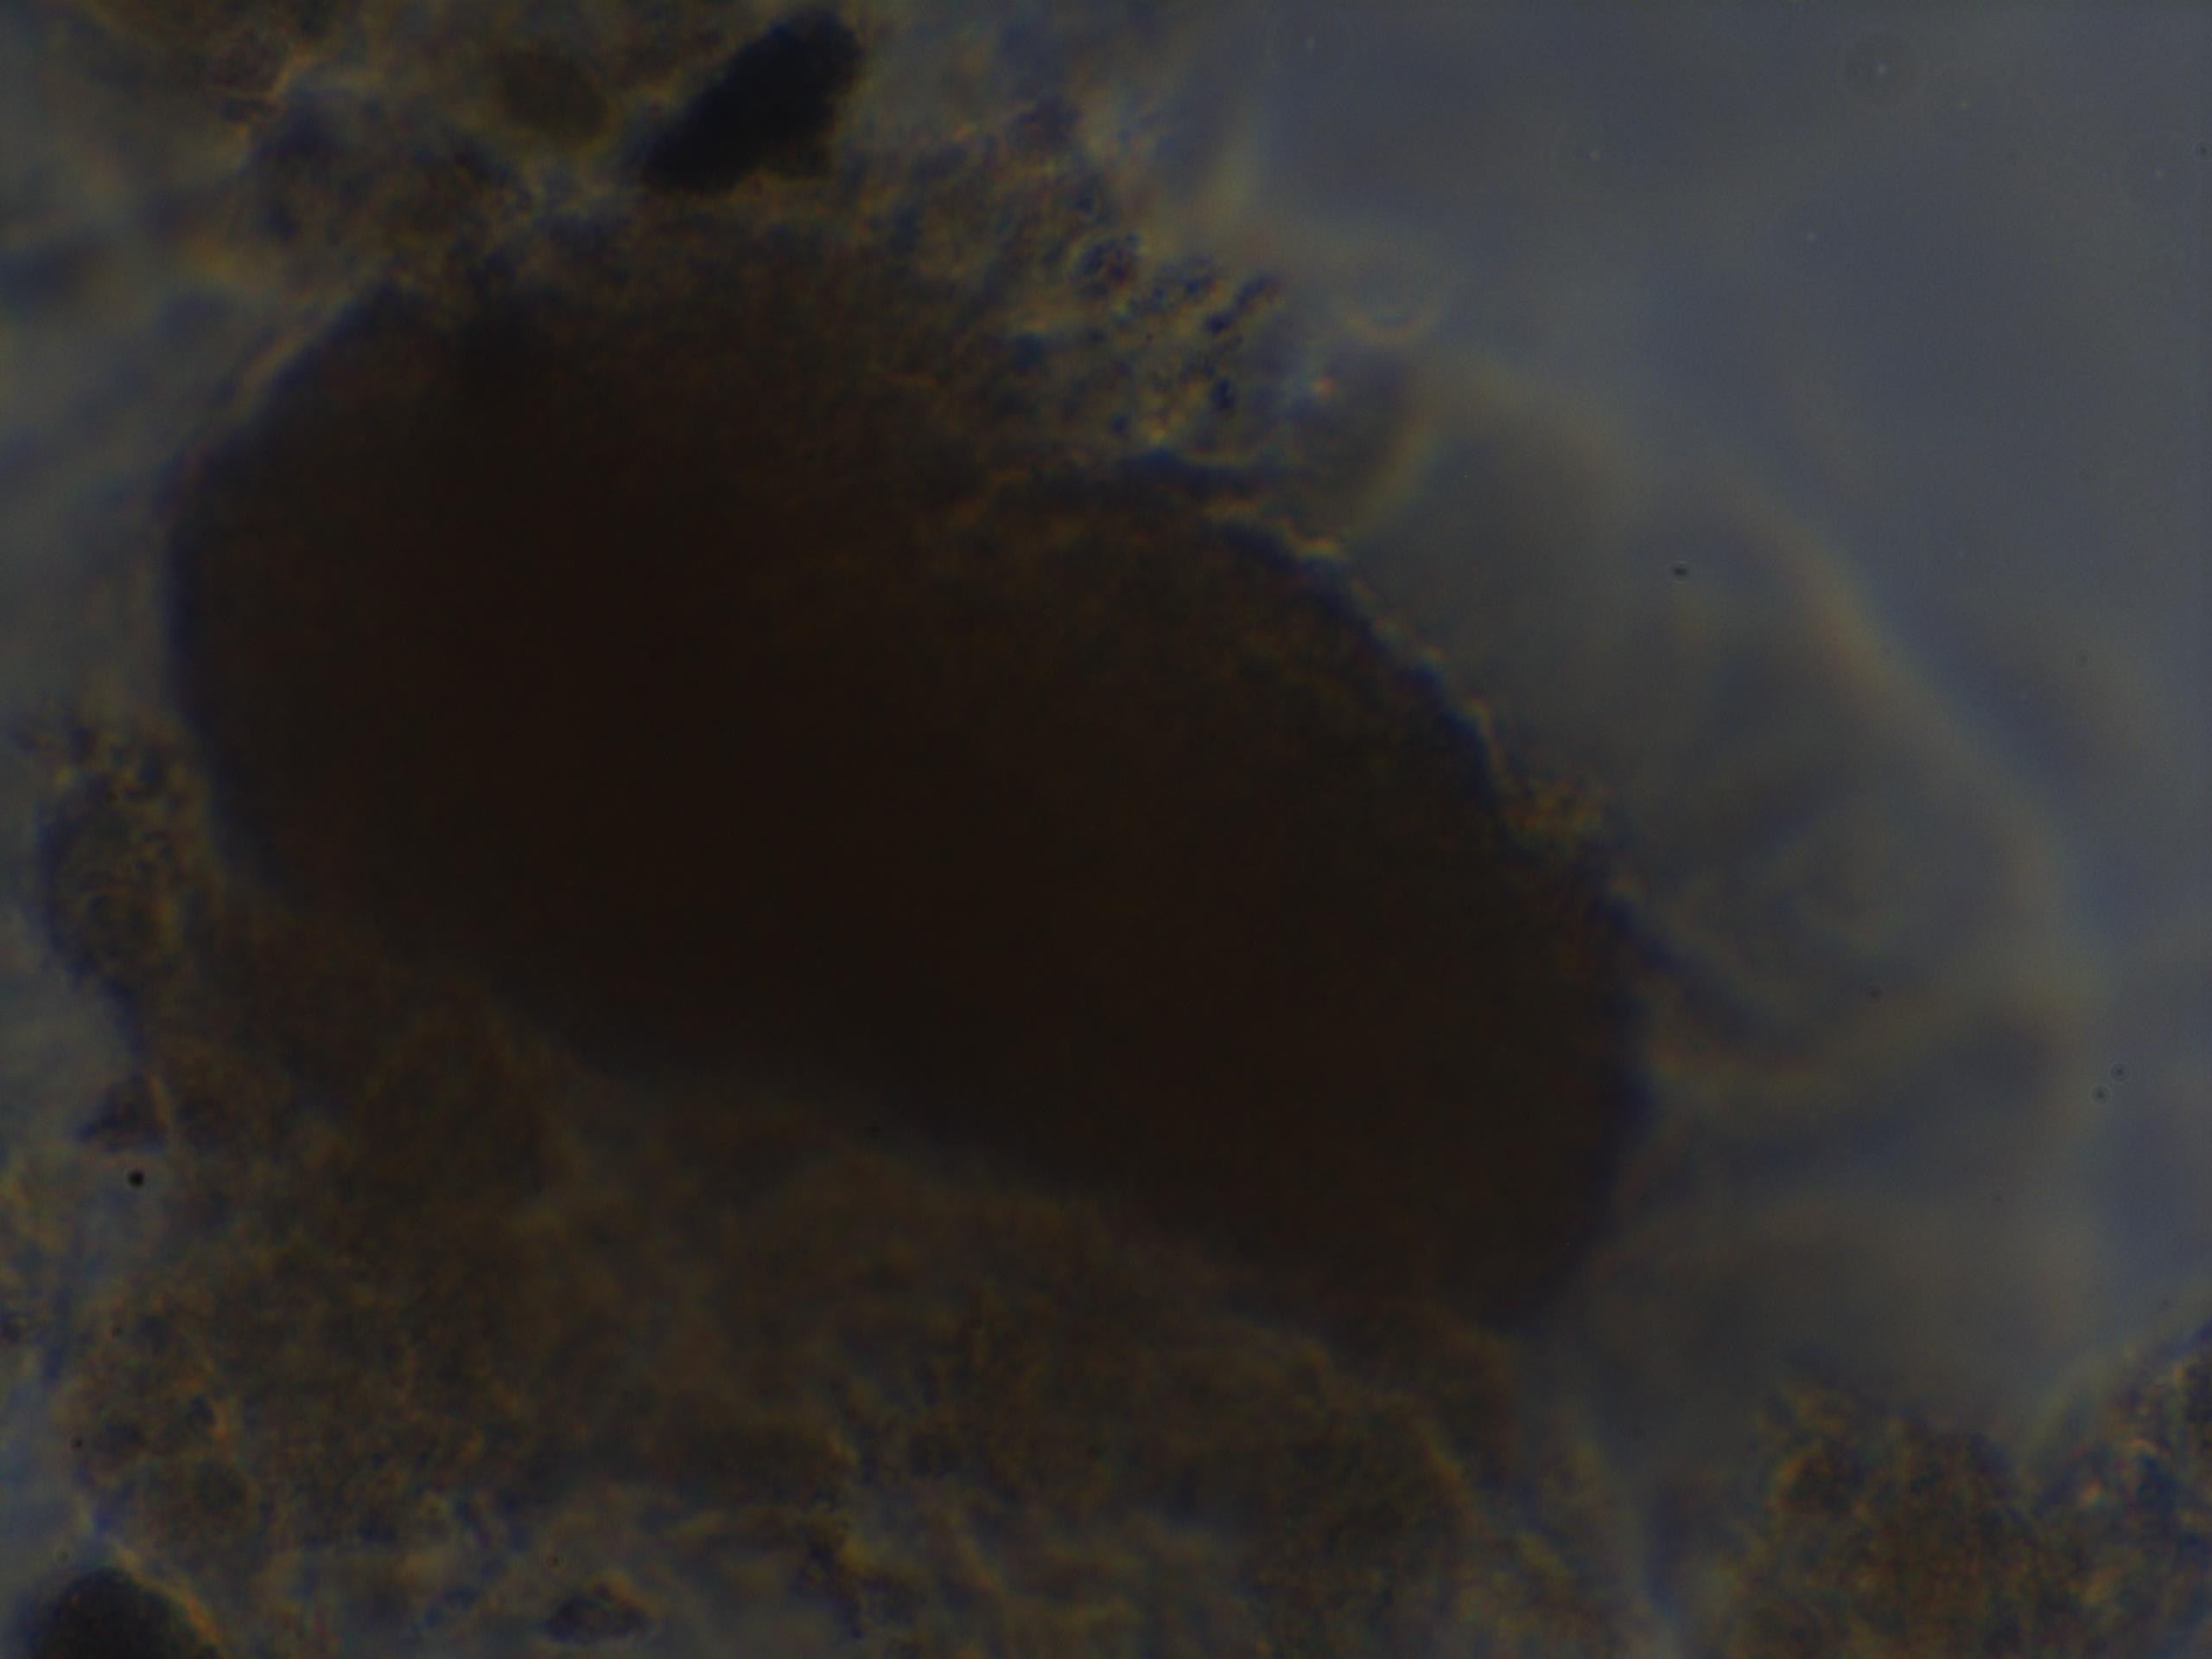spherical_floc: (139, 211, 1670, 1345)
